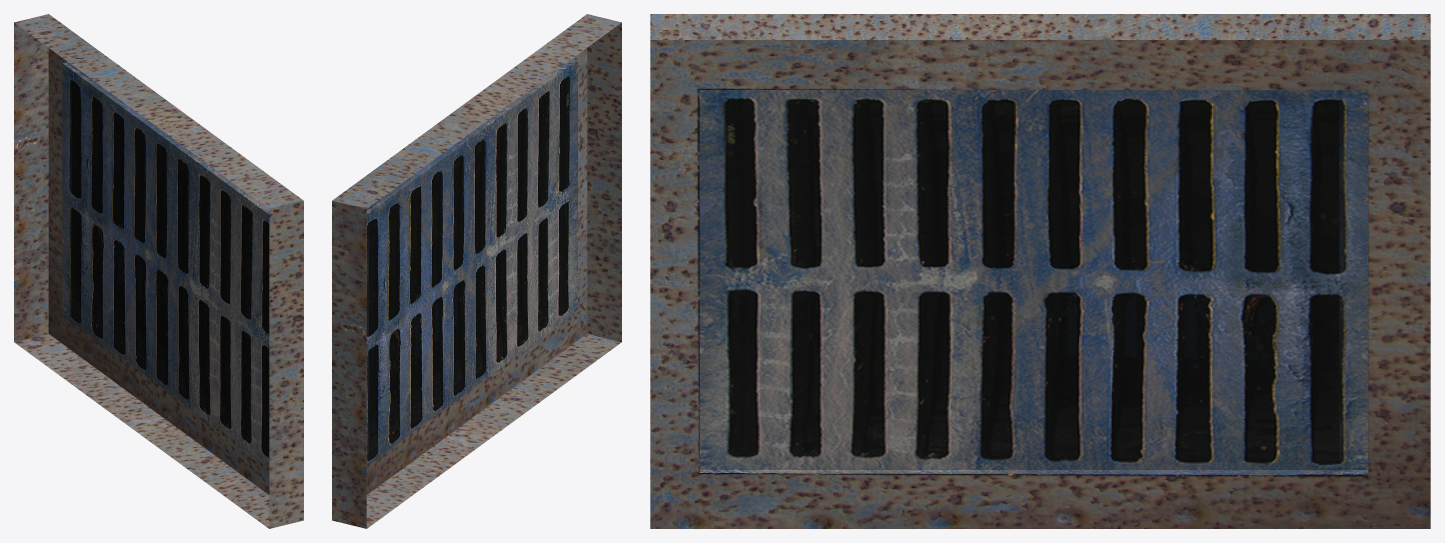
File: airvent.fbx
3 views of the same model, side by side, from view 1: azimuth 30°, elevation 25°; view 2: azimuth 150°, elevation 25°; view 3: azimuth 270°, elevation 25° (orthographic). The views are drawn at different scales.
Visible parts, largest first — view 1: pCube1; view 2: pCube1; view 3: pCube1.
Part boxes in pixels (x1,y1,x2,y2): pCube1: (14, 14, 303, 528); pCube1: (332, 14, 621, 528); pCube1: (650, 14, 1430, 528).
Size of the model in its own units: 0.8578 by 7.56 by 10.92.
